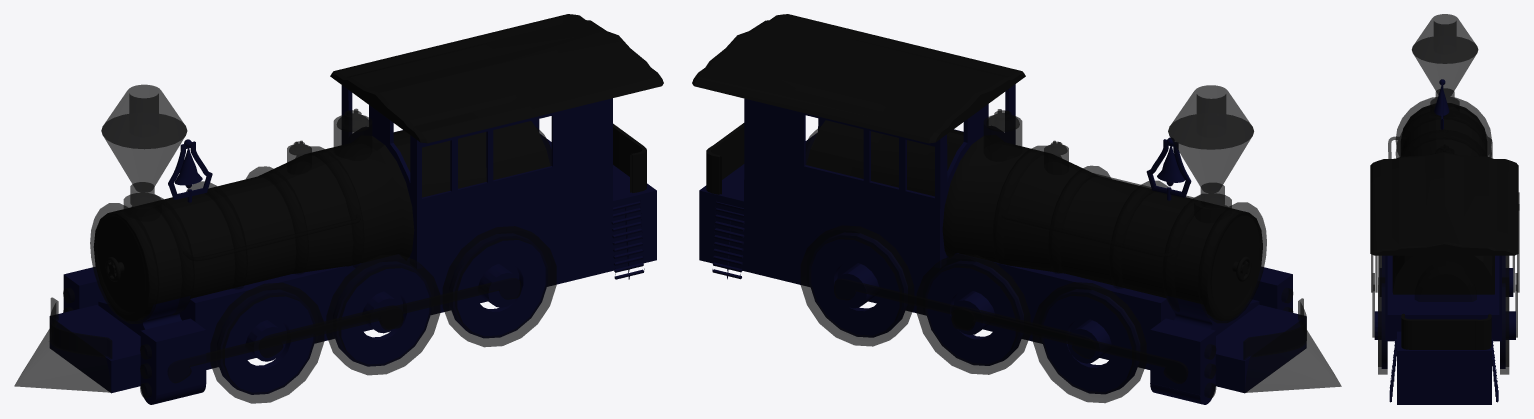
Rendered from train.FBX.
3 renders of one model, left to right at view 1: azimuth 30°, elevation 25°; view 2: azimuth 150°, elevation 25°; view 3: azimuth 270°, elevation 25°, orthographic. The views are drawn at different scales.
Parts seen in each view (by area): view 1: Cylinder02, ChamferCyl, Tube13, Cylinder01, Tube15, Tube02, Tube03, Box02, Tube14, Tube01, Tube04, Cone01 (+25 smaller); view 2: Cylinder02, ChamferCyl, Tube13, Cylinder01, Tube07, Tube12, Tube10, Box03, Tube08, Tube11, Tube09, Cone01 (+25 smaller); view 3: ChamferCyl, Cylinder02, Cylinder01, Tube13, Line09, Cone01, Cylinder05, ChamferCy0, Torus04, Torus05, Torus03, Tube08 (+15 smaller).
Boxes of the visible parts, box(x1,y1,x2,y2) form: Cylinder02: box(94, 121, 550, 321); ChamferCyl: box(330, 14, 663, 143); Tube13: box(341, 85, 612, 268); Cylinder01: box(49, 165, 656, 393); Tube15: box(449, 233, 547, 338); Tube02: box(217, 289, 315, 394); Tube03: box(333, 261, 431, 366); Box02: box(140, 318, 206, 395); Tube14: box(442, 226, 556, 347); Tube01: box(210, 282, 324, 403); Tube04: box(326, 254, 440, 375); Cone01: box(101, 114, 187, 192); Cylinder02: box(806, 120, 1262, 320); ChamferCyl: box(692, 14, 1025, 143); Tube13: box(744, 84, 1015, 268); Cylinder01: box(699, 164, 1306, 393); Tube07: box(809, 232, 907, 337); Tube12: box(1041, 289, 1140, 394); Tube10: box(925, 260, 1023, 365); Box03: box(1150, 318, 1215, 395); Tube08: box(800, 225, 914, 346); Tube11: box(1032, 282, 1146, 402); Tube09: box(916, 253, 1030, 374); Cone01: box(1168, 114, 1253, 192); ChamferCyl: box(1370, 152, 1518, 255); Cylinder02: box(1392, 104, 1494, 294); Cylinder01: box(1397, 331, 1491, 404); Tube13: box(1385, 255, 1501, 341); Line09: box(1401, 313, 1491, 349); Cone01: box(1412, 37, 1477, 97); Cylinder05: box(1412, 14, 1478, 63); ChamferCy0: box(1415, 261, 1476, 301); Torus04: box(1395, 110, 1491, 157); Torus05: box(1395, 97, 1491, 155); Torus03: box(1400, 129, 1487, 156); Tube08: box(1500, 277, 1509, 374).
Size of the model in its own units: 328 by 153 by 89.44.
